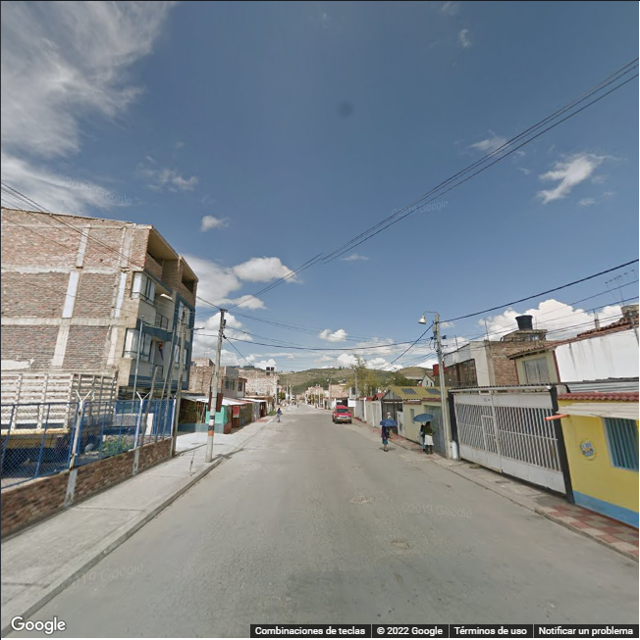D20: (157, 553, 307, 619)
D40: (386, 536, 413, 552)
